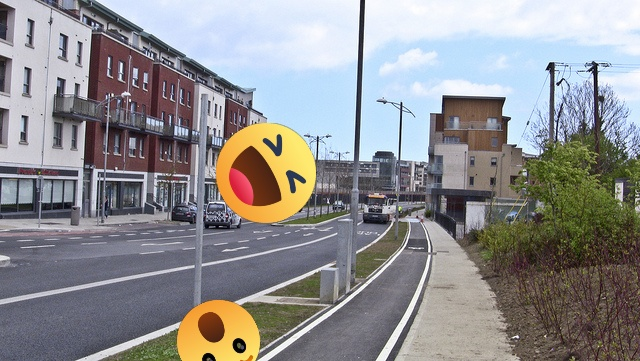haha: (216, 123, 316, 223)
wow: (177, 300, 260, 361)
